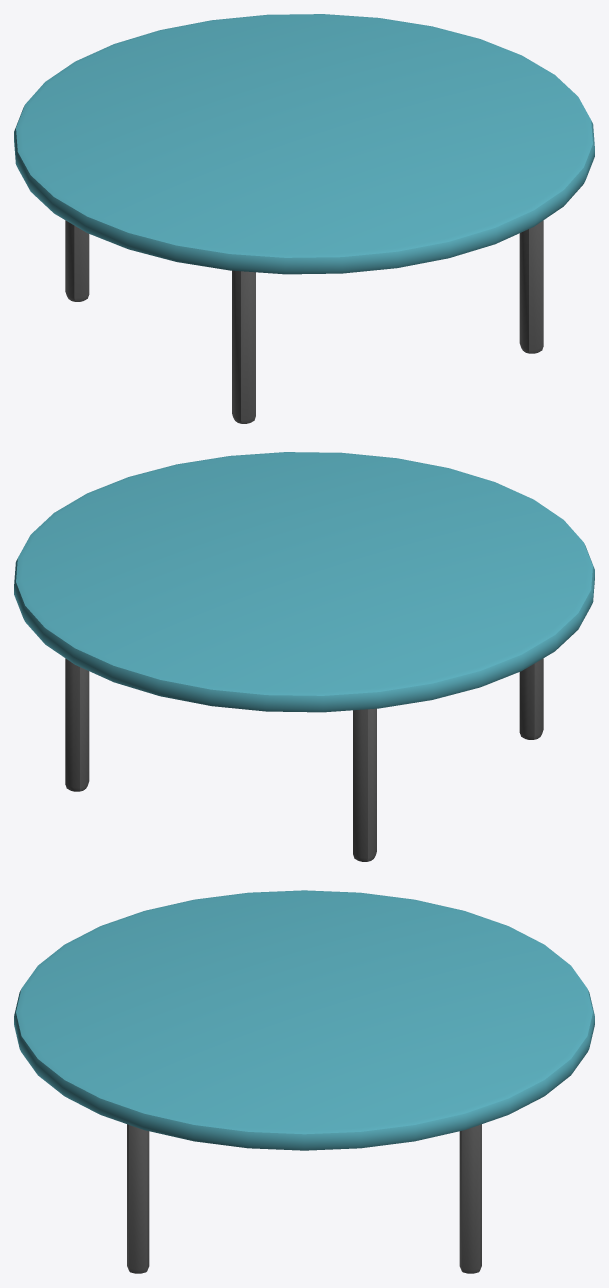
Rendered from SM_table_small_05.fbx.
The picture shows the model from 3 angles, top to bottom: view 1: azimuth 30°, elevation 25°; view 2: azimuth 150°, elevation 25°; view 3: azimuth 270°, elevation 25°; orthographic projection.
Parts seen in each view (by area): view 1: Box413; view 2: Box413; view 3: Box413.
Part boxes in pixels (box(x1,y1,x2,y2)): Box413: box(14, 14, 594, 423); Box413: box(14, 452, 594, 861); Box413: box(14, 890, 594, 1273).
Size of the model in its own units: 78.55 by 28.44 by 78.55.
